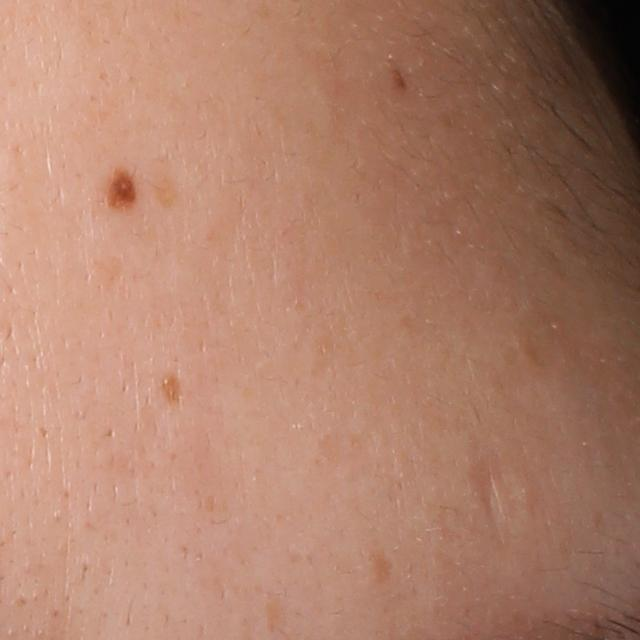atrophic_scar: (470, 453, 513, 550)
melasma: (162, 369, 184, 403)
nevus: (101, 162, 142, 216), (390, 65, 407, 90)
